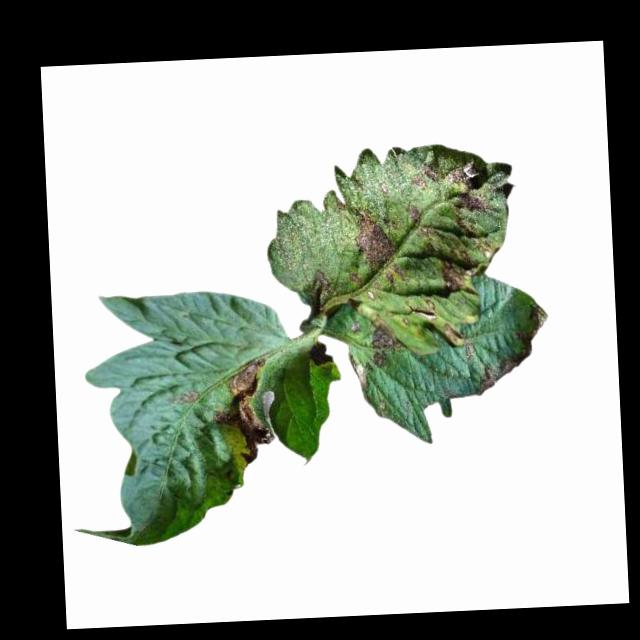Early_blight: (209, 353, 274, 467), (351, 204, 408, 285), (443, 157, 492, 233), (431, 242, 480, 294), (475, 354, 517, 395), (369, 319, 401, 366), (304, 269, 333, 311), (414, 161, 439, 191), (167, 390, 201, 404)
